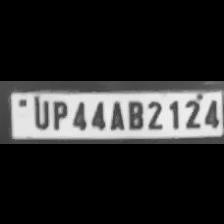1: (164, 96, 181, 130)
2: (144, 98, 164, 130), (182, 96, 200, 128)
4: (200, 94, 220, 128), (88, 96, 106, 130), (70, 98, 89, 130)
A: (106, 98, 124, 130)
B: (125, 96, 144, 130)
P: (50, 98, 68, 130)
U: (30, 96, 50, 130)
